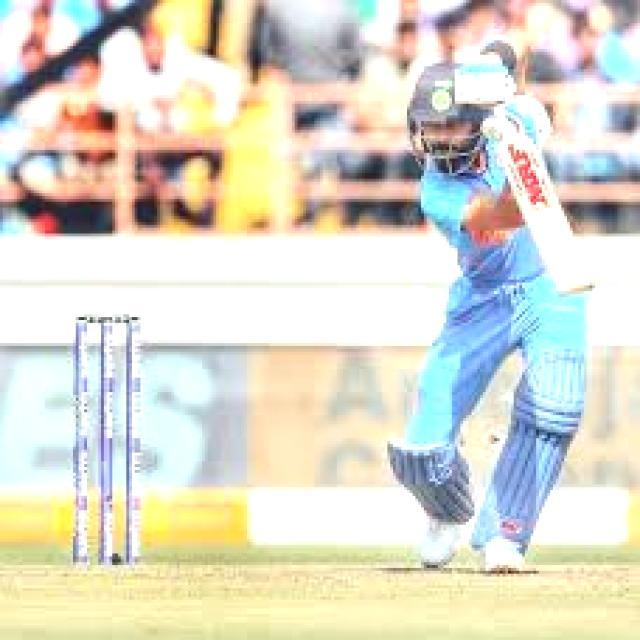bat: (500, 124, 600, 295)
toe: (550, 269, 597, 293)
